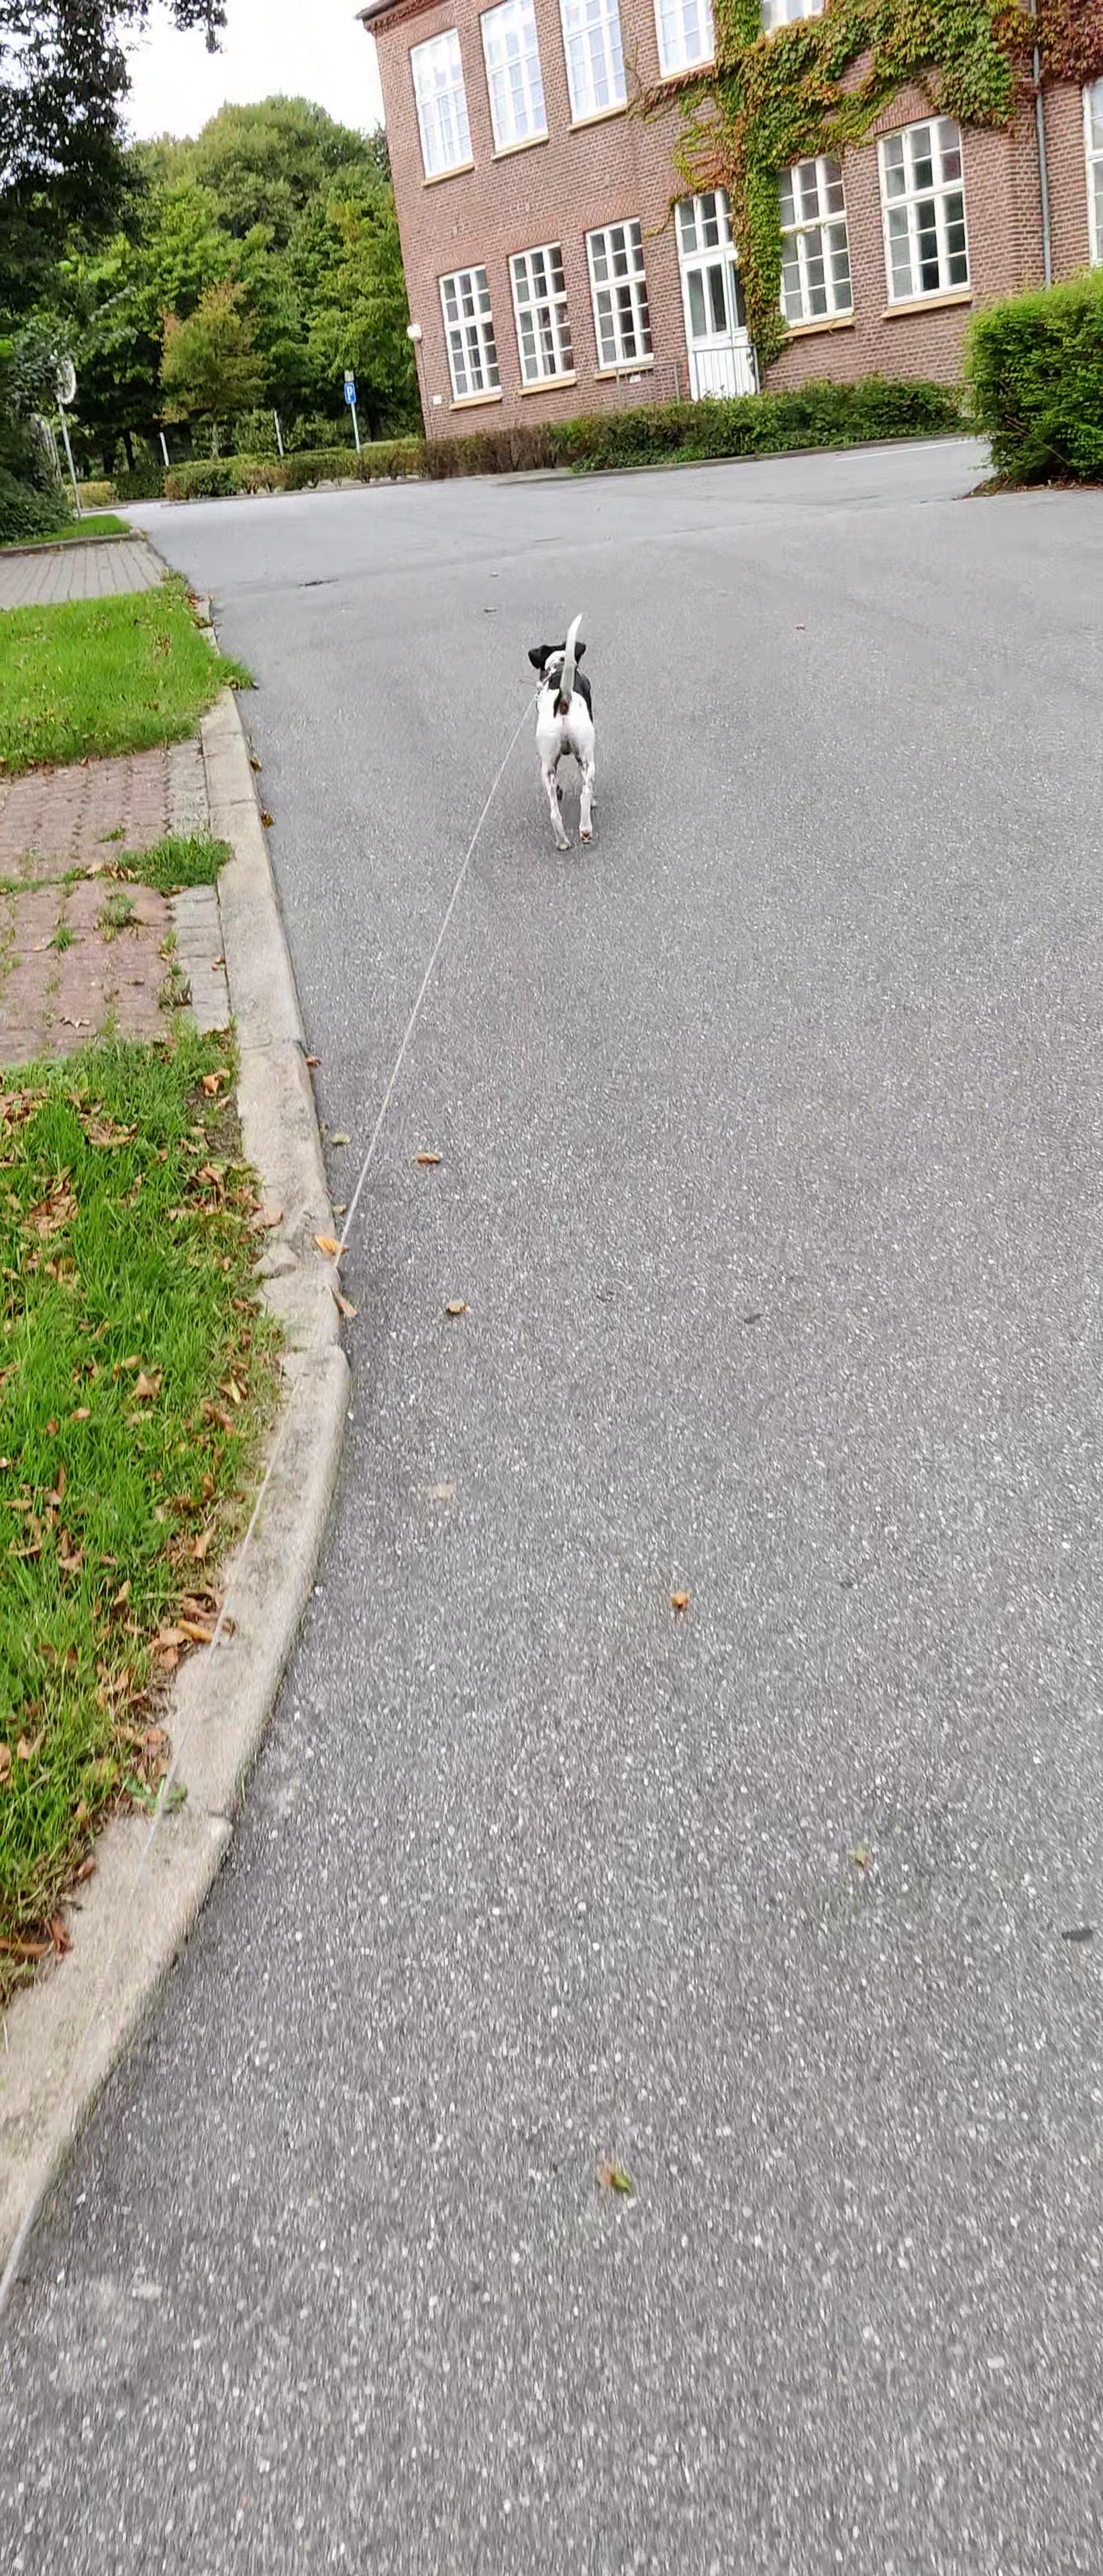Dog: (523, 609, 598, 854)
